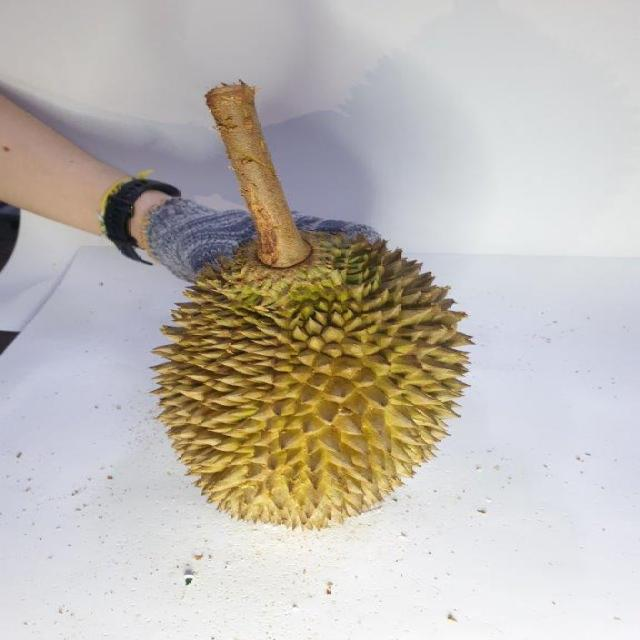mature: (154, 227, 469, 538)
